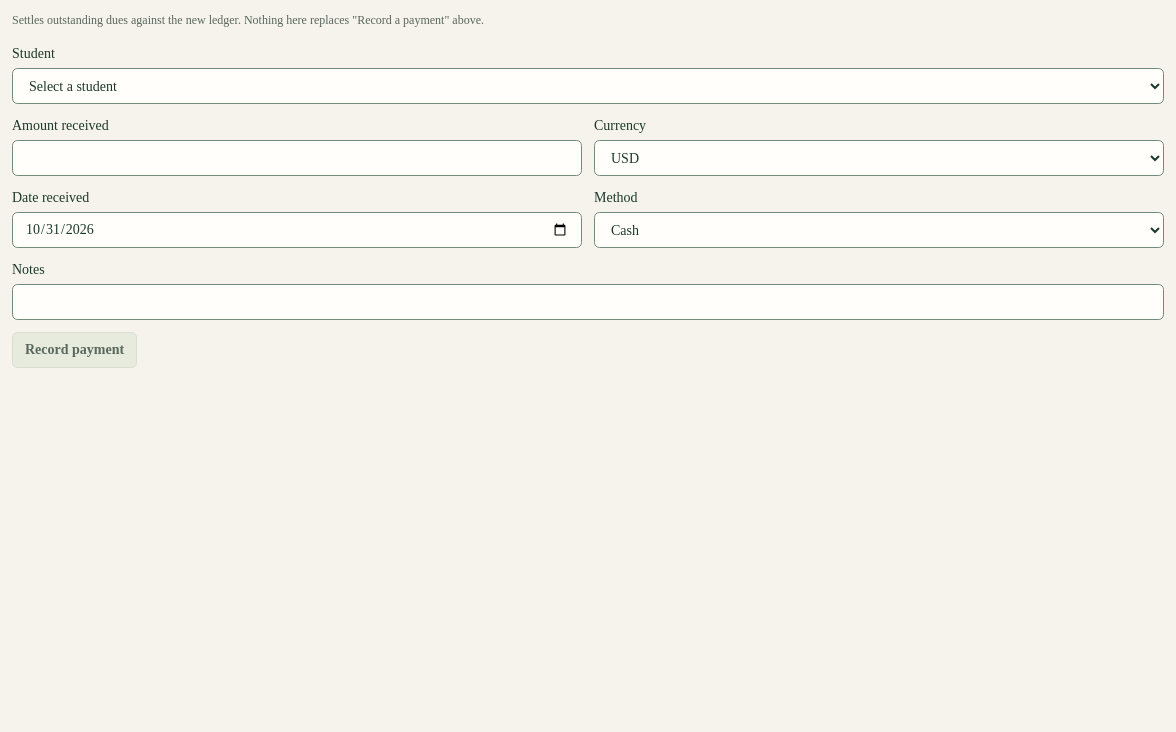
Test: point 2: an ordinary business refusal clears only the identity, never the owner's typed draft › submit with notOldestFirst: input values survive exactly, stored identity is cleared, owner corrects and resubmits successfully
The image size is (1176, 732).
Select "Ana Soto — Alliance" in the dropdown labelled "Student" at (588, 86), box [12,68,1164,104]
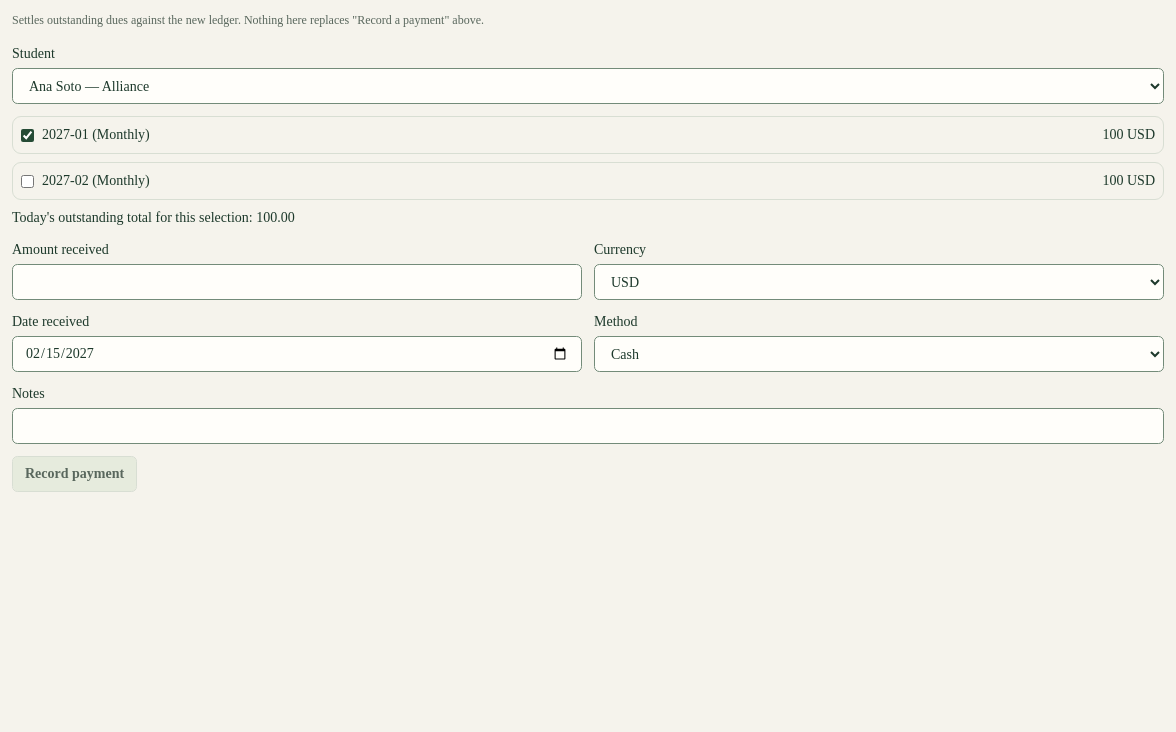
Expected: the field labelled "Amount received" is shown, [12,264,582,300]
Click the checkbox labelled "2027-02 (Monthly)" at (28, 181), box [21,174,34,188]
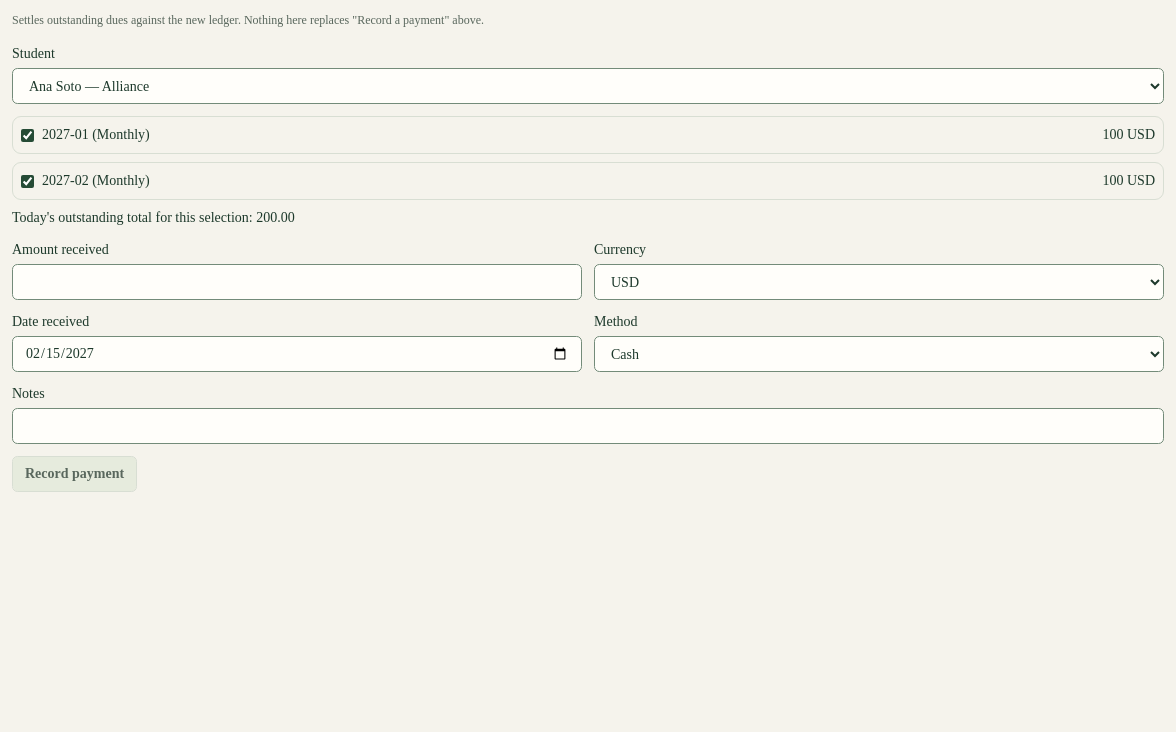
Type "77.50" into the field labelled "Amount received" at (297, 282), box [12,264,582,300]
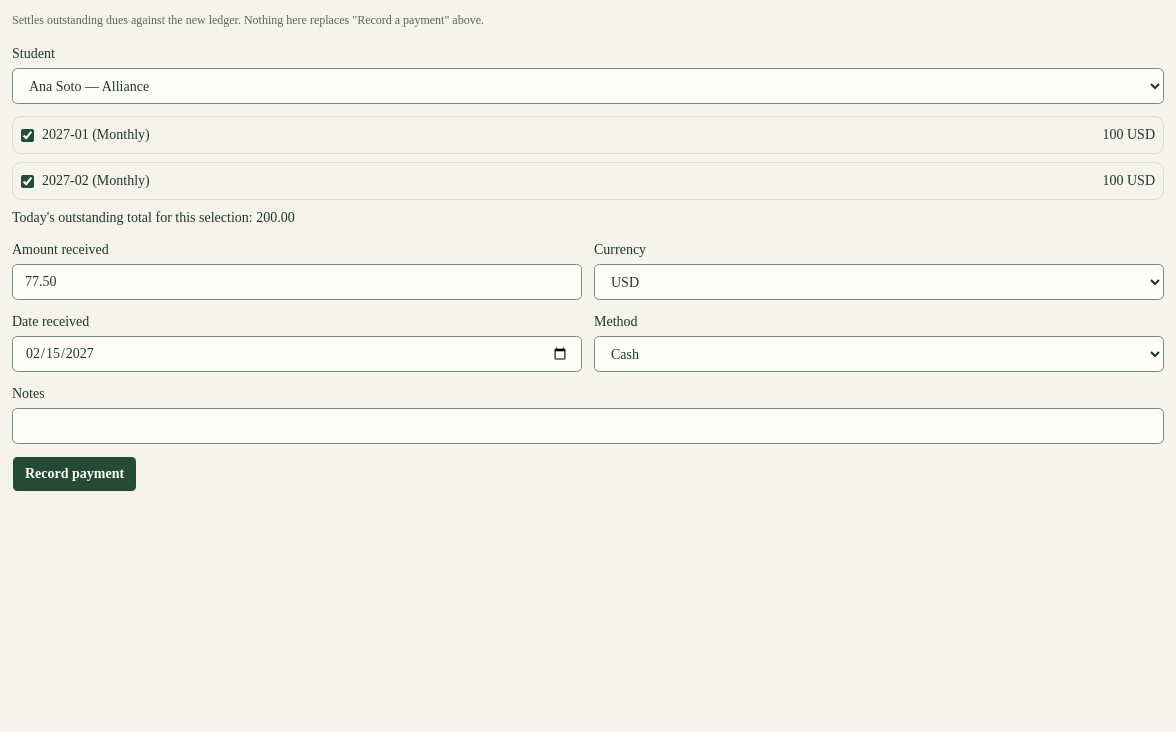
Type "a specific note" into the field labelled "Notes" at (588, 426), box [12,408,1164,444]
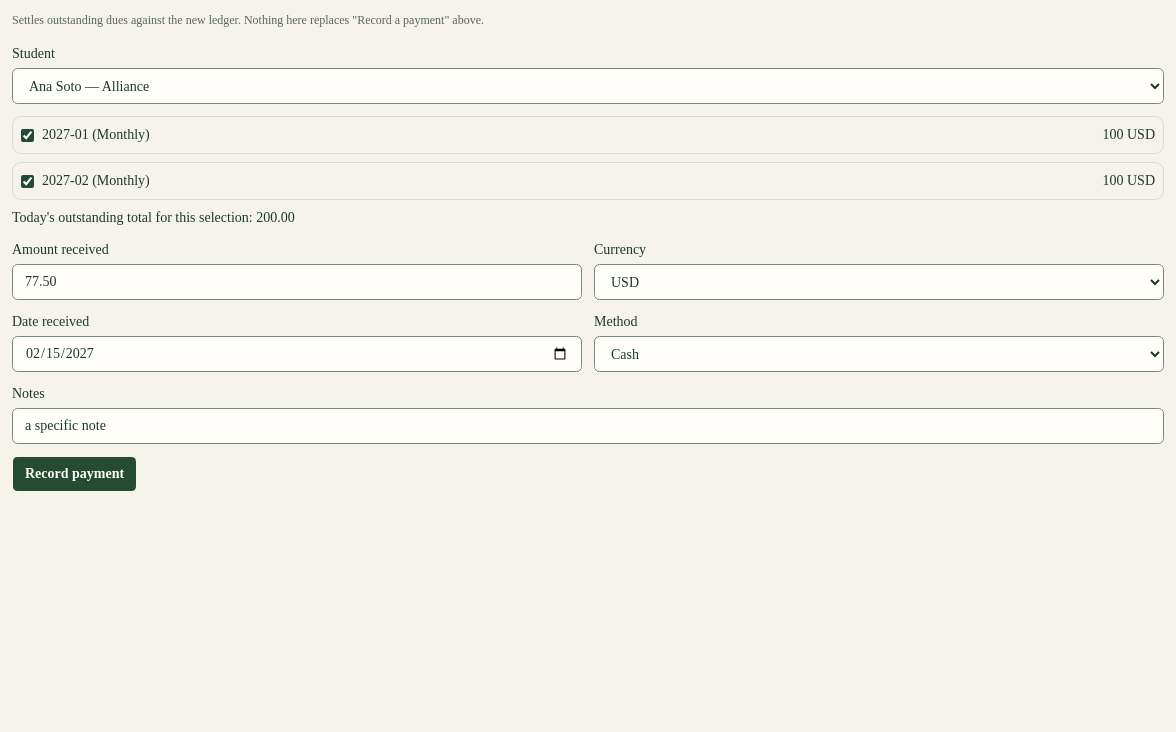
Click the button "Record payment" at (75, 474), box [12,456,137,492]
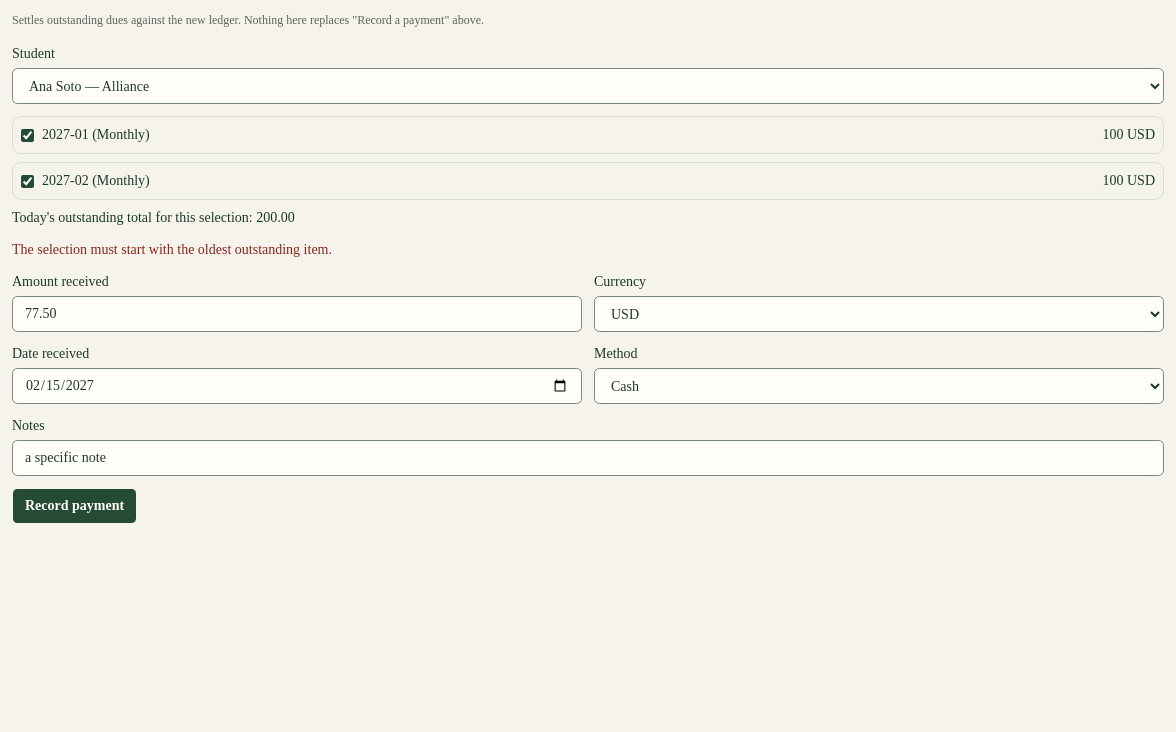
Expected: the text "The selection must start with the oldest outstanding item." is shown, [12,242,332,257]
Click the button "Record payment" at (75, 506), box [12,488,137,524]
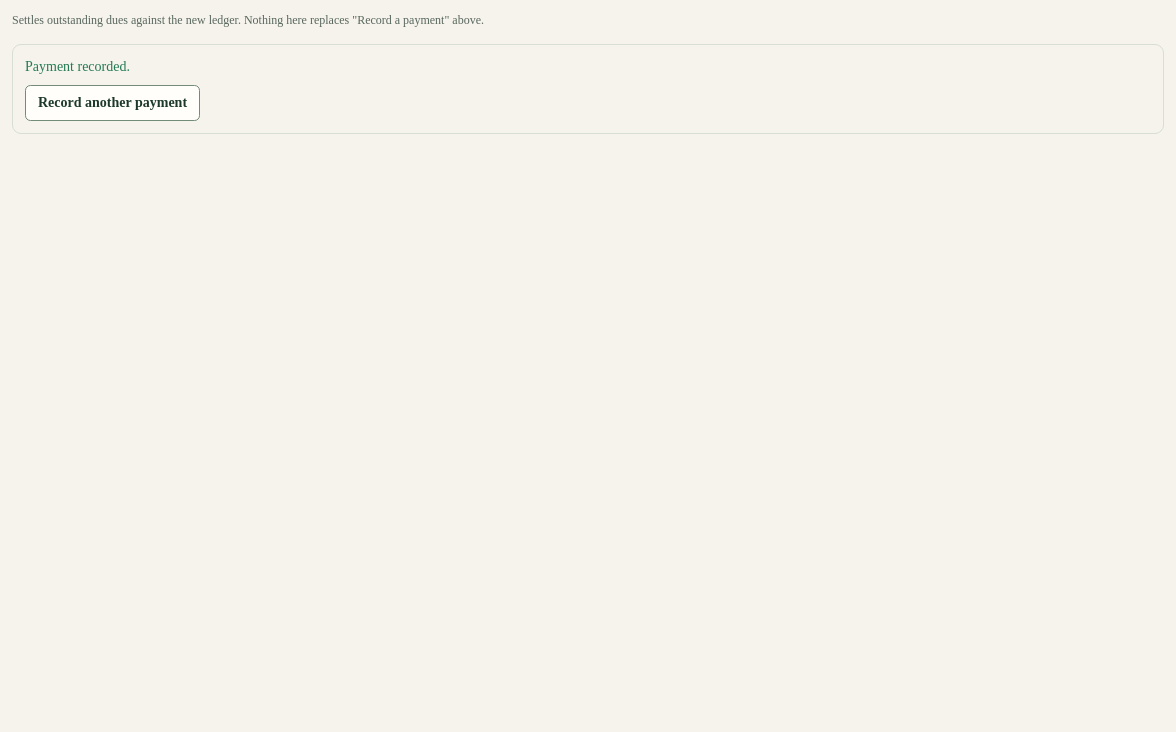
Expected: the text "Payment recorded." is shown, [25,59,130,74]
